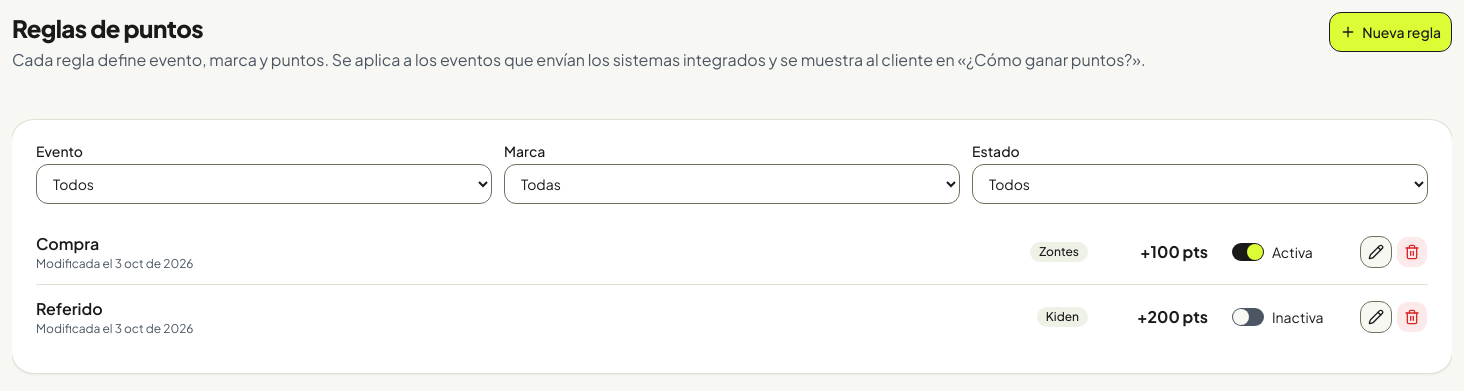
F2-FE-02 · Reglas de puntos (UI-04, A05) › lista reglas sin campo de condición y filtra por estado
The width and height of the screenshot is (1464, 391).
Expected: the number of list items is 2, [36, 220, 1428, 285]; [36, 298, 1428, 336]
Select "Inactivas" in the dropdown labelled "Estado" at (1200, 184), box [972, 164, 1428, 204]
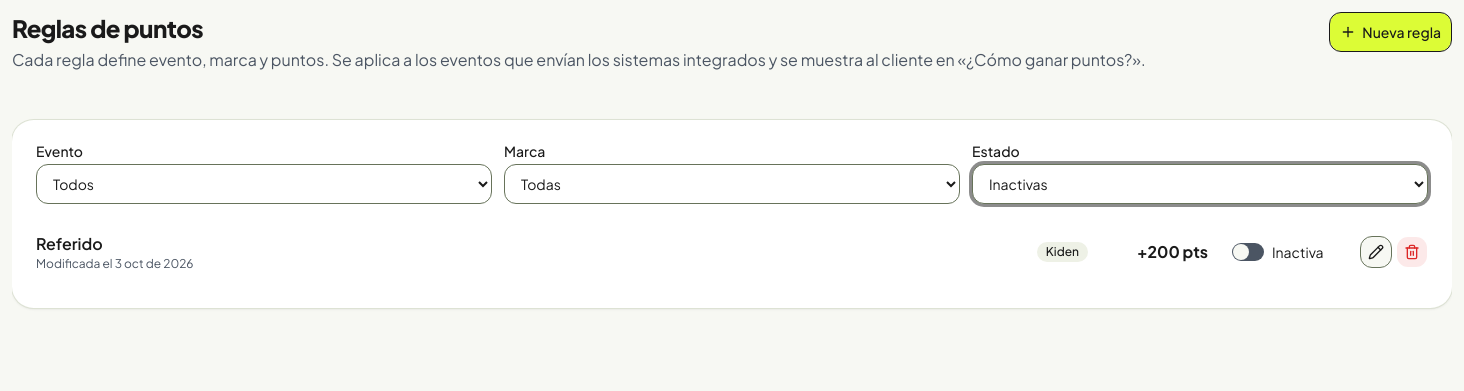
Expected: the list named "Reglas de puntos" shows "Referido", [36, 233, 103, 254]
Expected: the number of list items is 1, [36, 233, 1428, 271]
